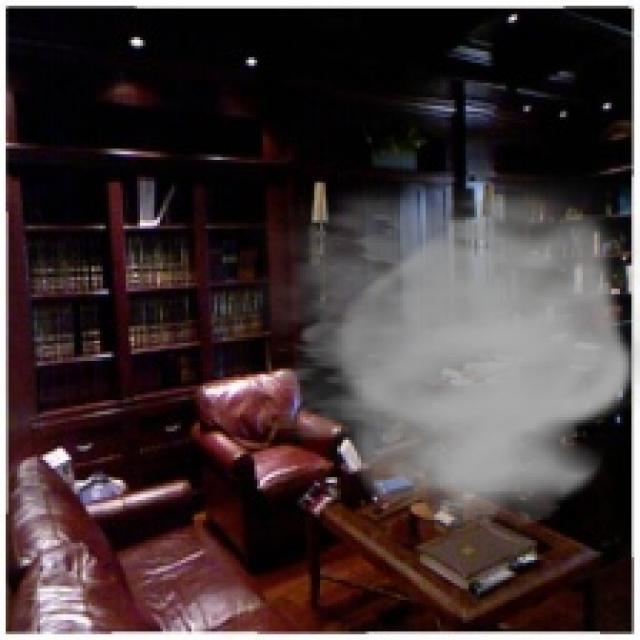smoke: (226, 166, 637, 534)
